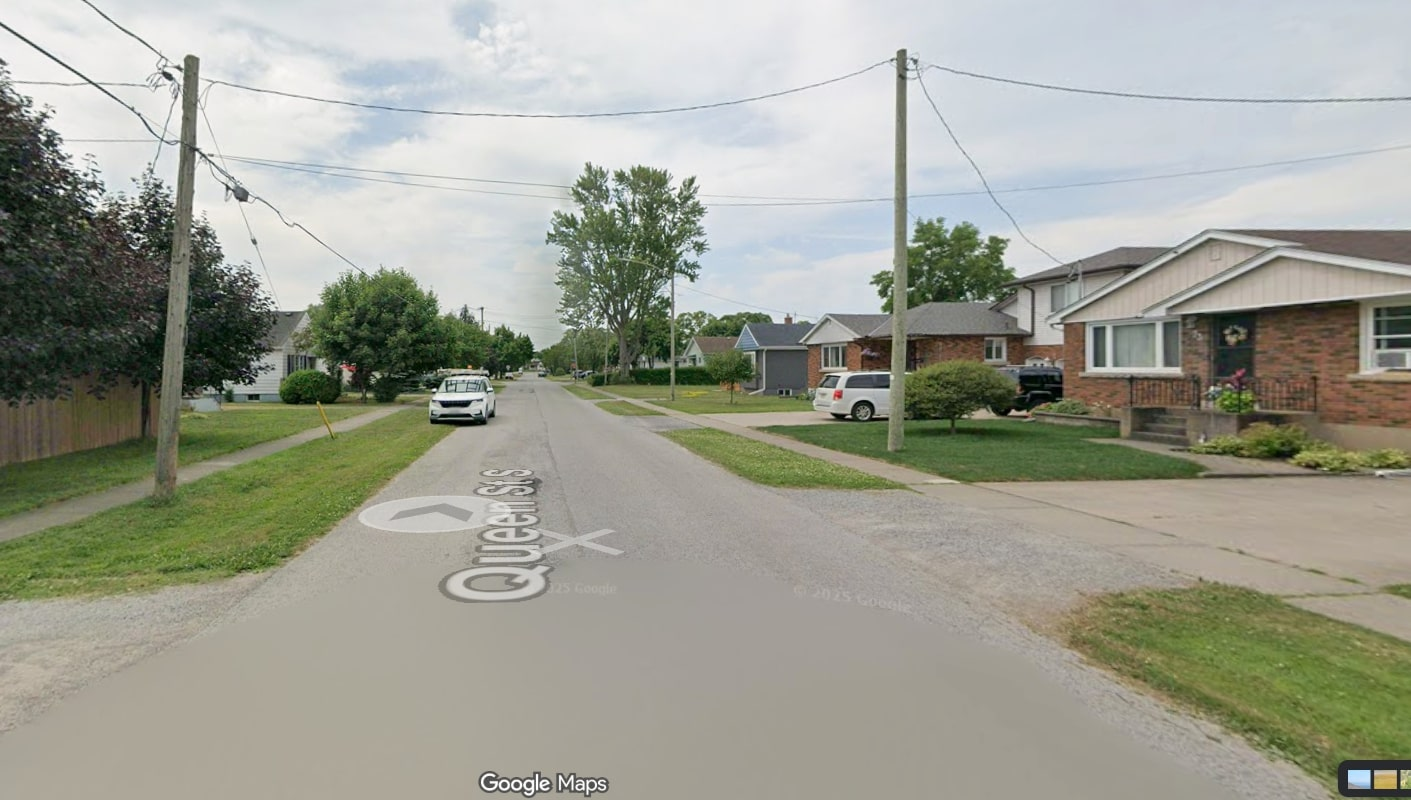cracks: (527, 451, 582, 529), (522, 385, 562, 450)
